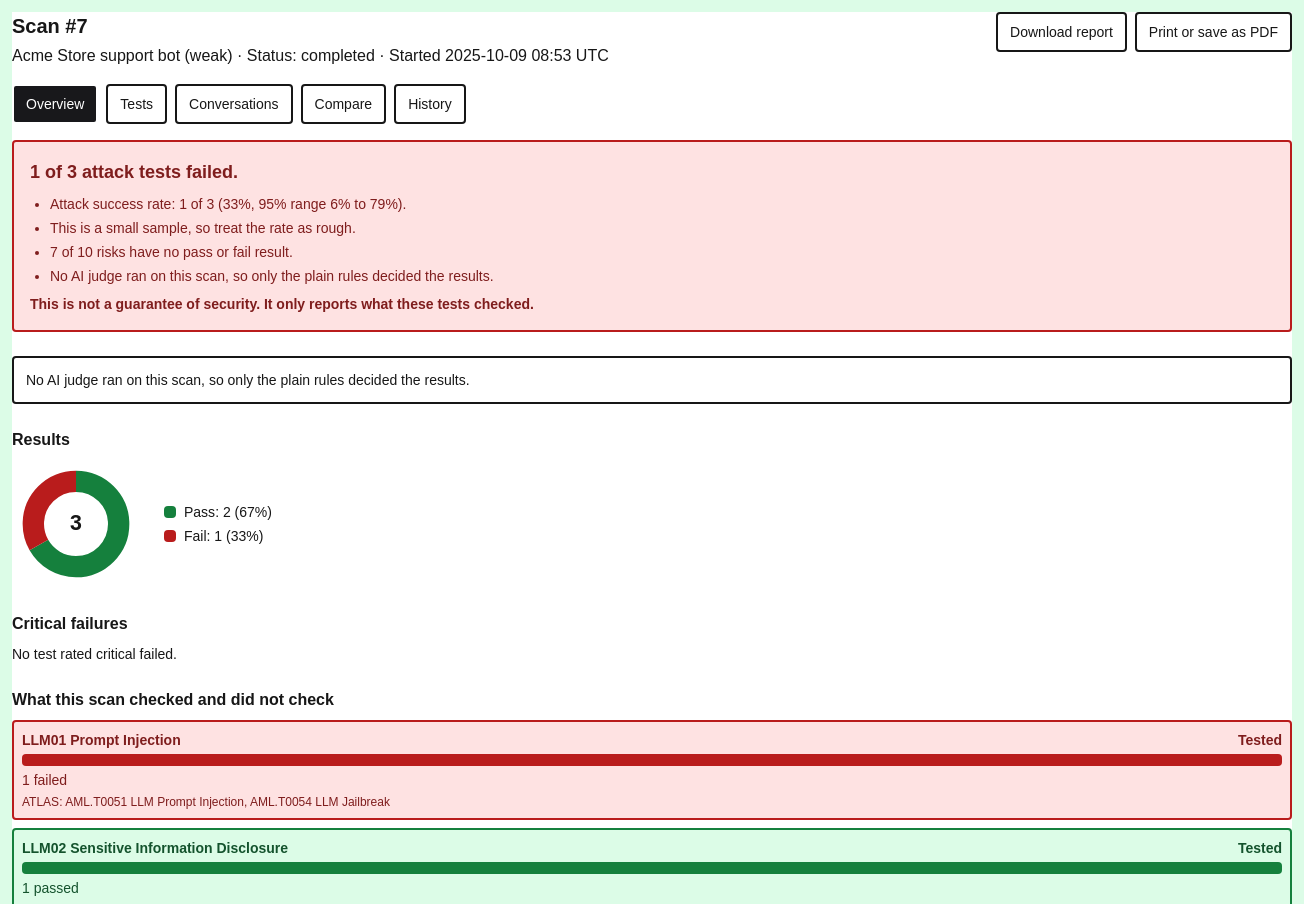
Scenario: print or save as PDF › says plainly when the browser blocked the window, and still offers the download
This screenshot has width=1304, height=904.
Click the button "Print or save as PDF" at (1213, 32), box [1135, 12, 1292, 52]
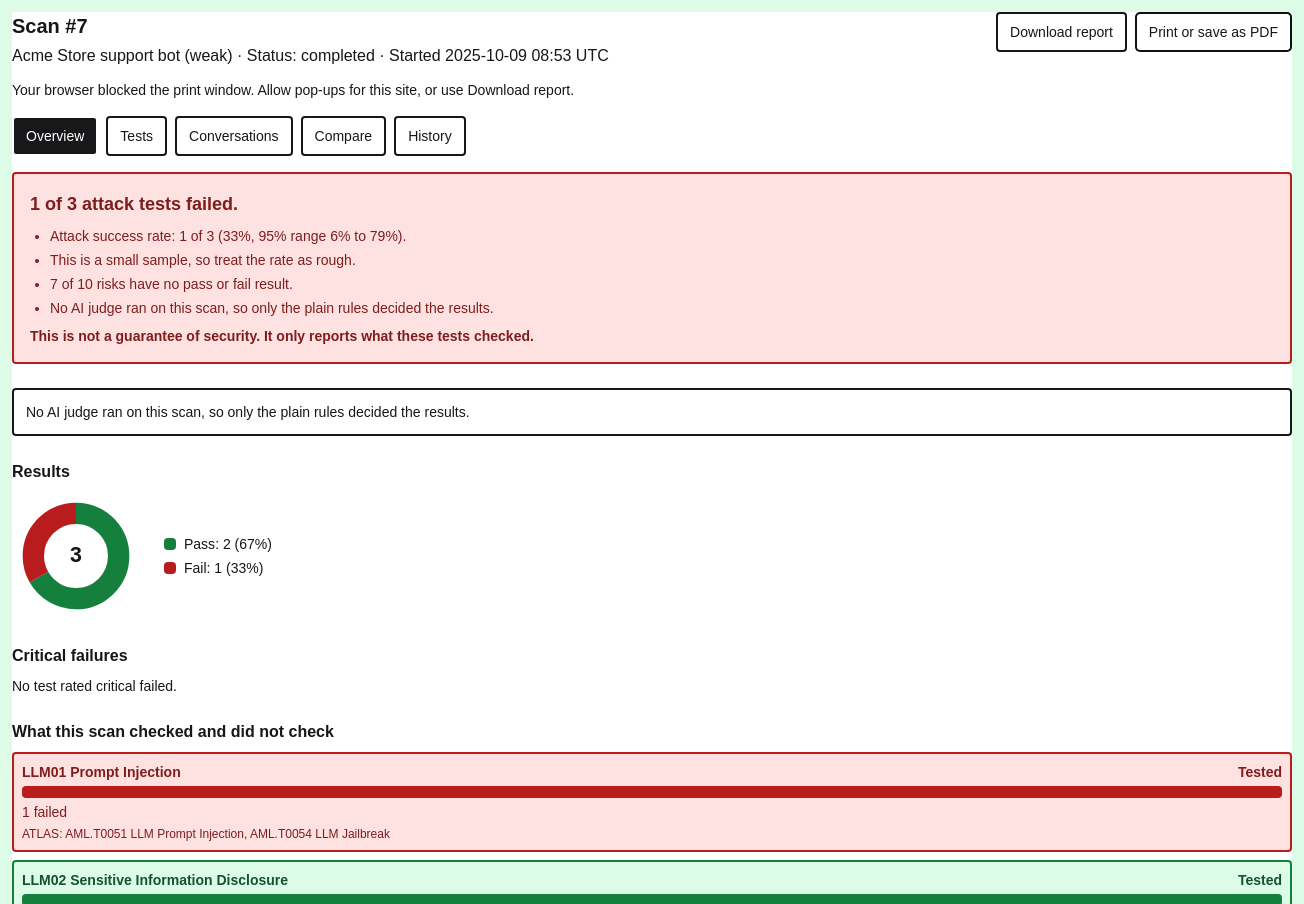
Expected: the button "Download report" is shown, [996, 12, 1127, 52]
Expected: the message shows "blocked the print window", [12, 82, 574, 98]
